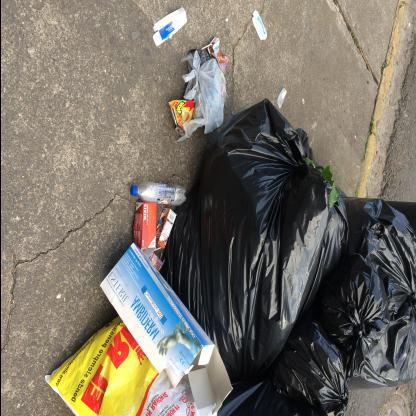karton: (100, 243, 234, 415), (153, 8, 188, 48), (133, 203, 157, 259), (201, 38, 230, 74), (156, 208, 178, 252), (252, 12, 268, 42), (149, 253, 164, 273)
plastik: (166, 99, 349, 373), (314, 198, 416, 387), (44, 316, 225, 416), (272, 322, 348, 415), (181, 50, 227, 136), (130, 182, 188, 207), (168, 101, 196, 139), (276, 89, 287, 110)
